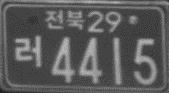1: (111, 36, 123, 86)
2: (86, 9, 104, 33)
4: (78, 36, 102, 85), (50, 36, 75, 83)
5: (133, 38, 157, 86)
9: (104, 10, 121, 33)
러: (13, 34, 42, 67)
전북_O: (44, 8, 85, 31)
